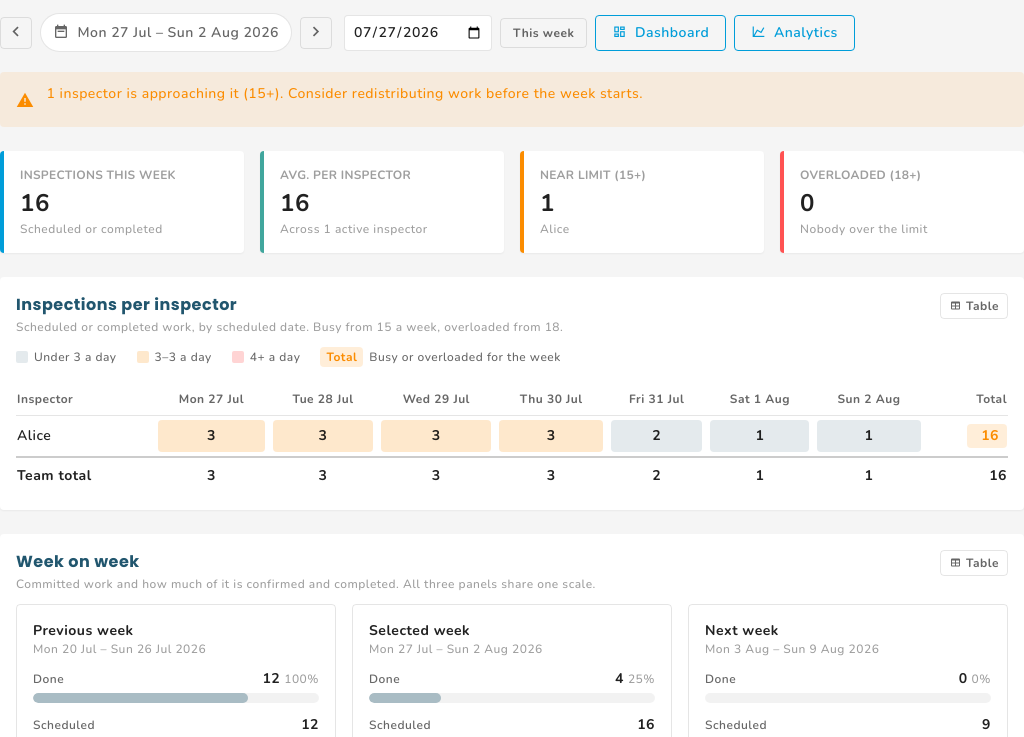
Scenario: InspectorWorkloadPage › navigates to /analytics when the Analytics action is clicked
Click the button "Analytics" at (795, 32), box [734,14,855,50]
(page scrolled)
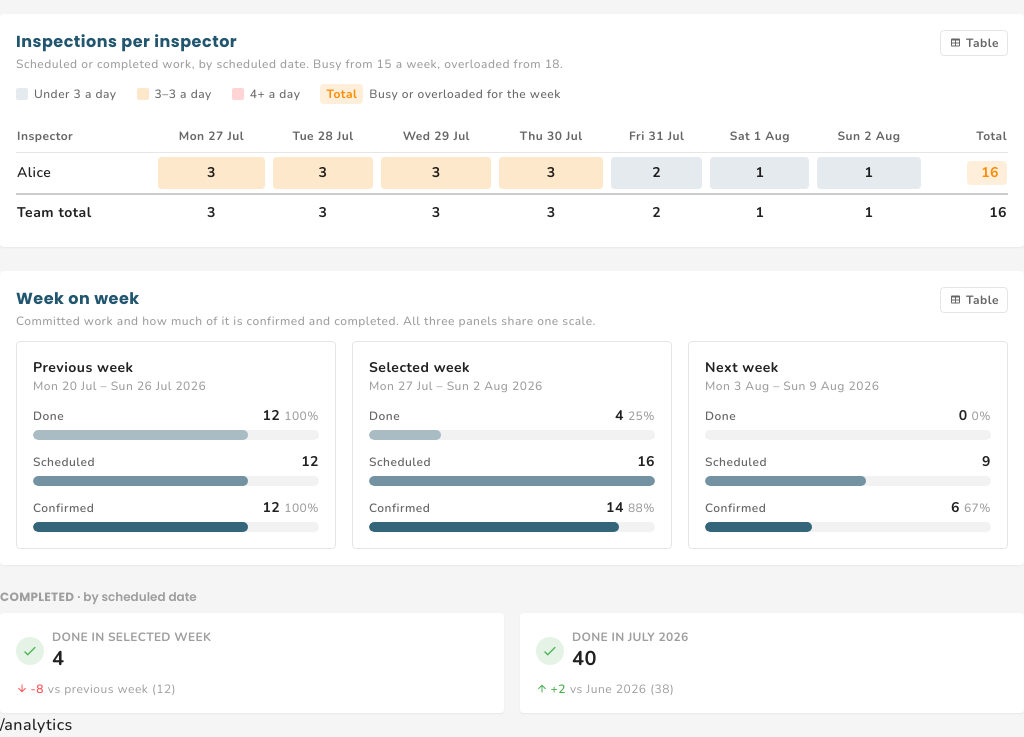
Result: the text with test id "location-display" reads "/analytics" at [0,714,73,736]
